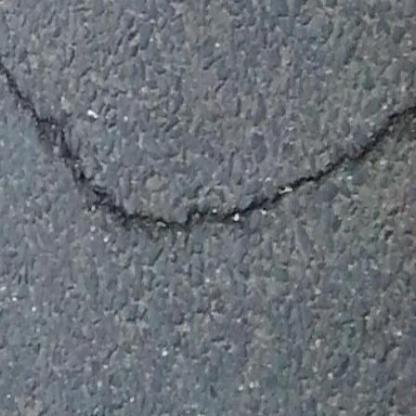Cracks: (0, 57, 416, 247)
